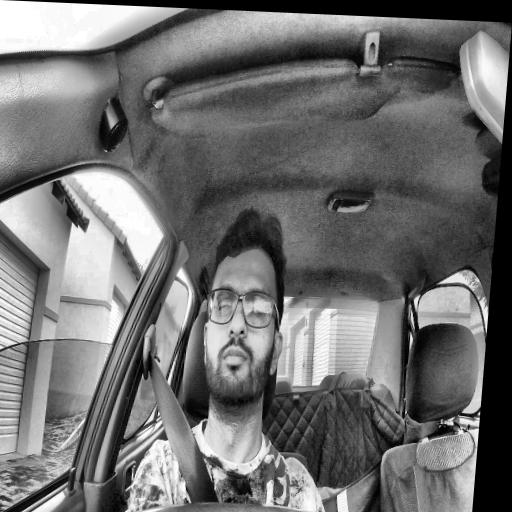drowsy: (197, 203, 295, 414)
